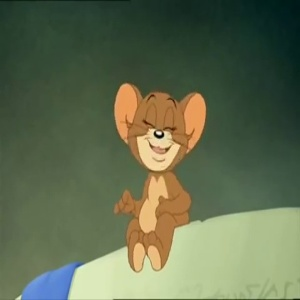Jerry: (110, 75, 213, 173)
